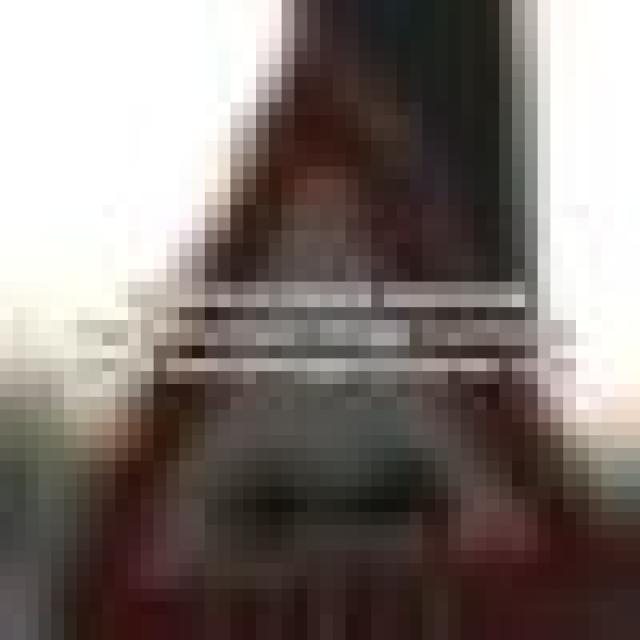horn_prohibited: (51, 39, 627, 602)
